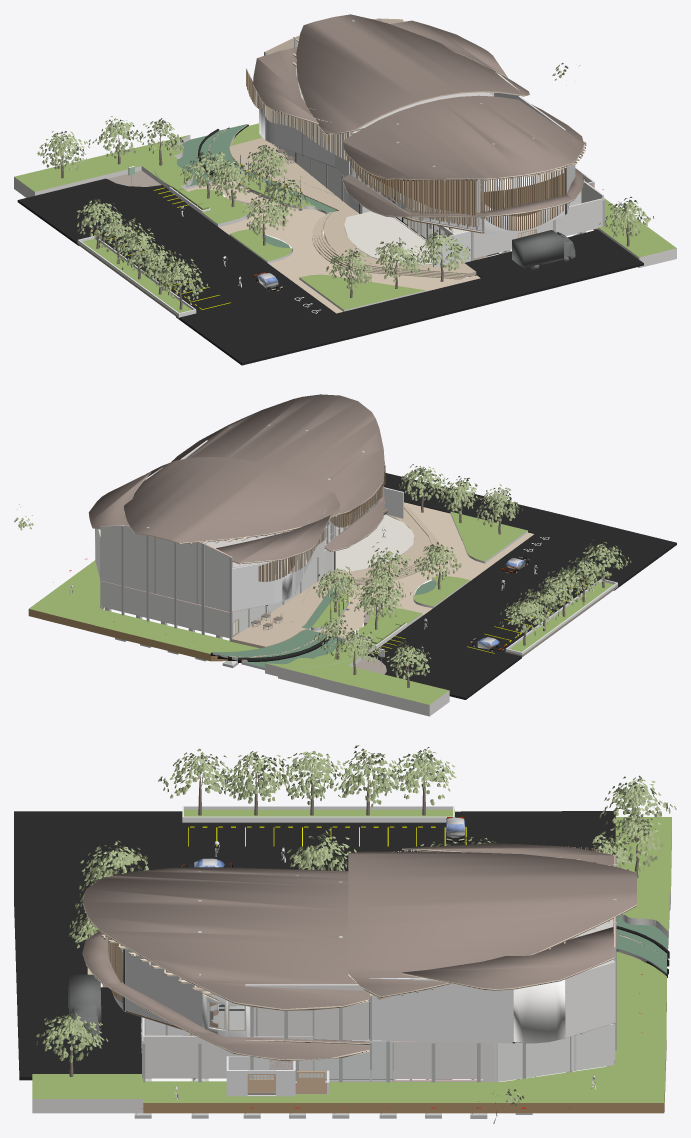
File: after-hours.glb
3 views of the same model, one above another, from view 1: azimuth 30°, elevation 25°; view 2: azimuth 150°, elevation 25°; view 3: azimuth 270°, elevation 25° (orthographic). The views are drawn at different scales.
Visible parts, largest first — view 1: G-Object.002; view 2: G-Object.002; view 3: G-Object.002.
Part boxes in pixels (x1,y1,x2,y2): G-Object.002: (14, 14, 676, 365); G-Object.002: (14, 394, 676, 716); G-Object.002: (14, 745, 676, 1123).
Bounding box in the file's own units: 73.04 × 16.23 × 58.47.
3 materials, 3 textured.
